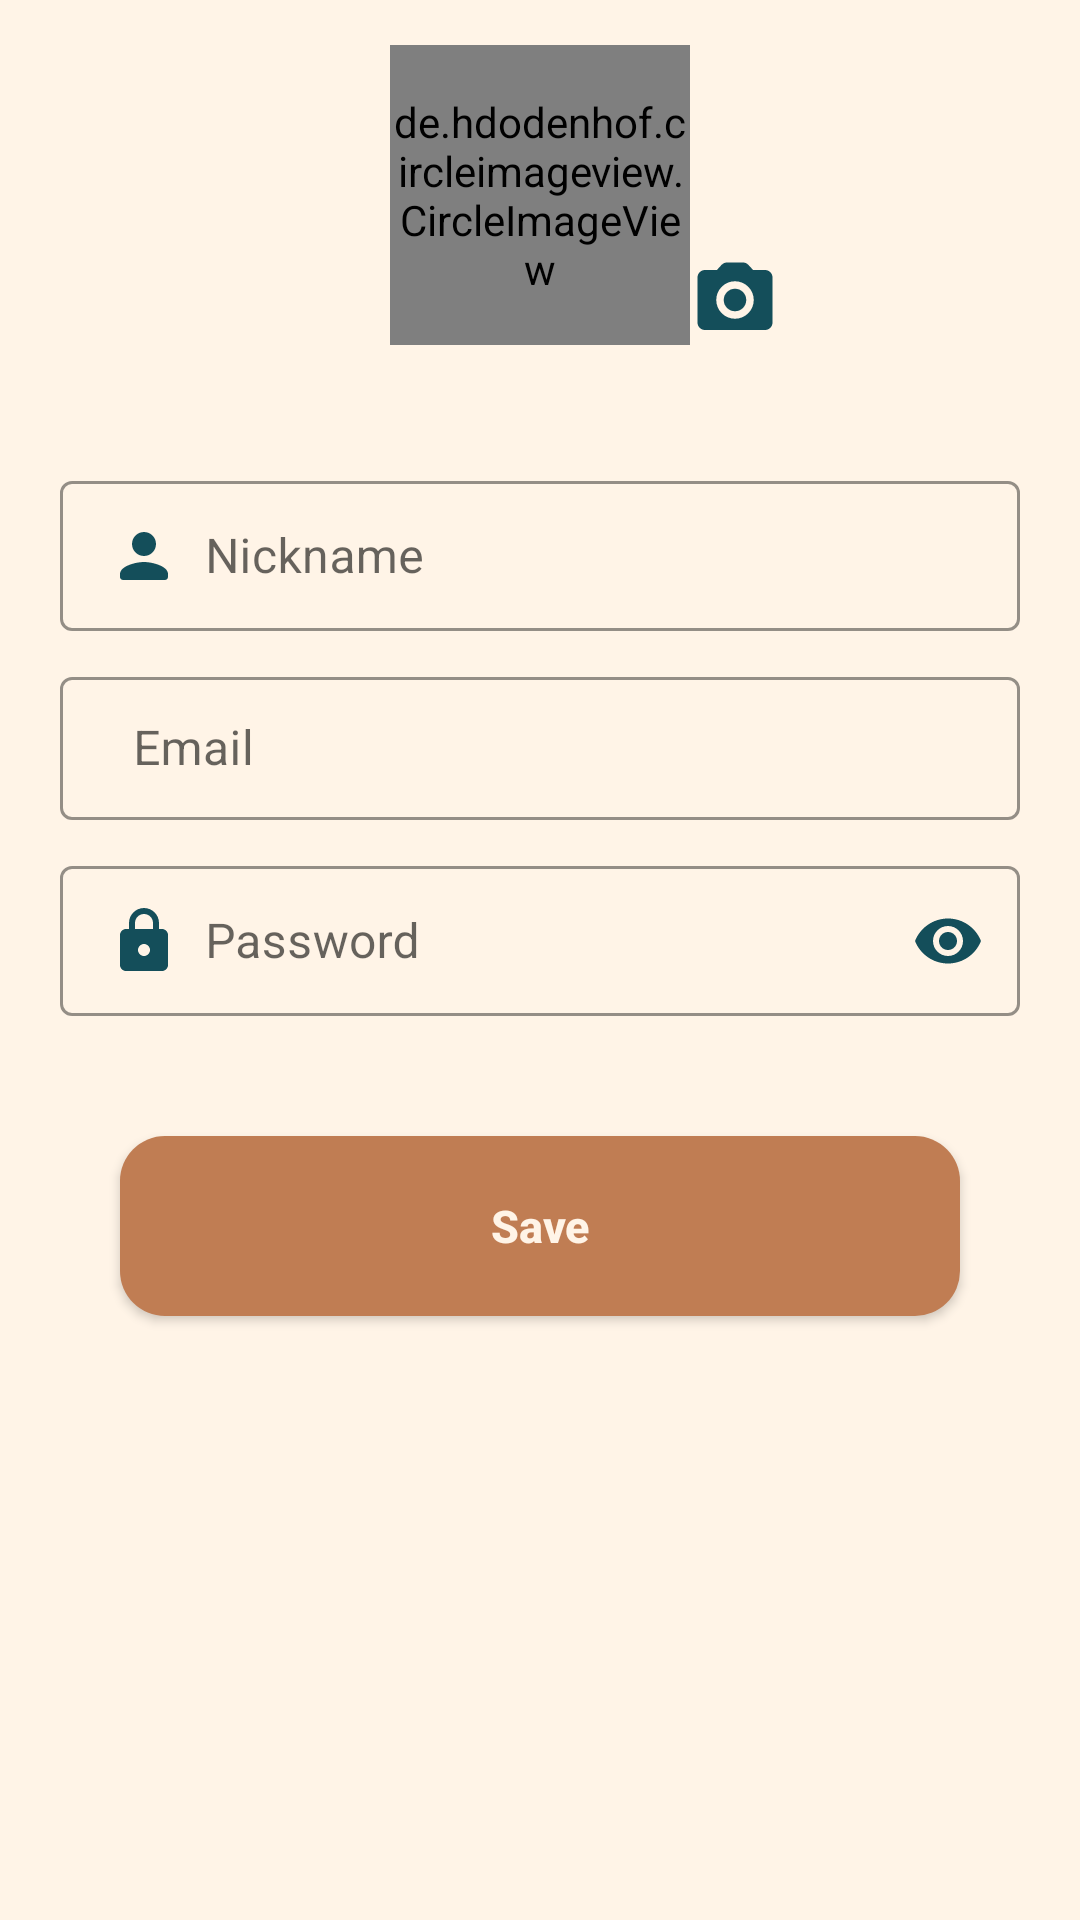

Point at icon controls on the screen. Image size 1080*1920, points as [x,y].
camera: [735,296]
